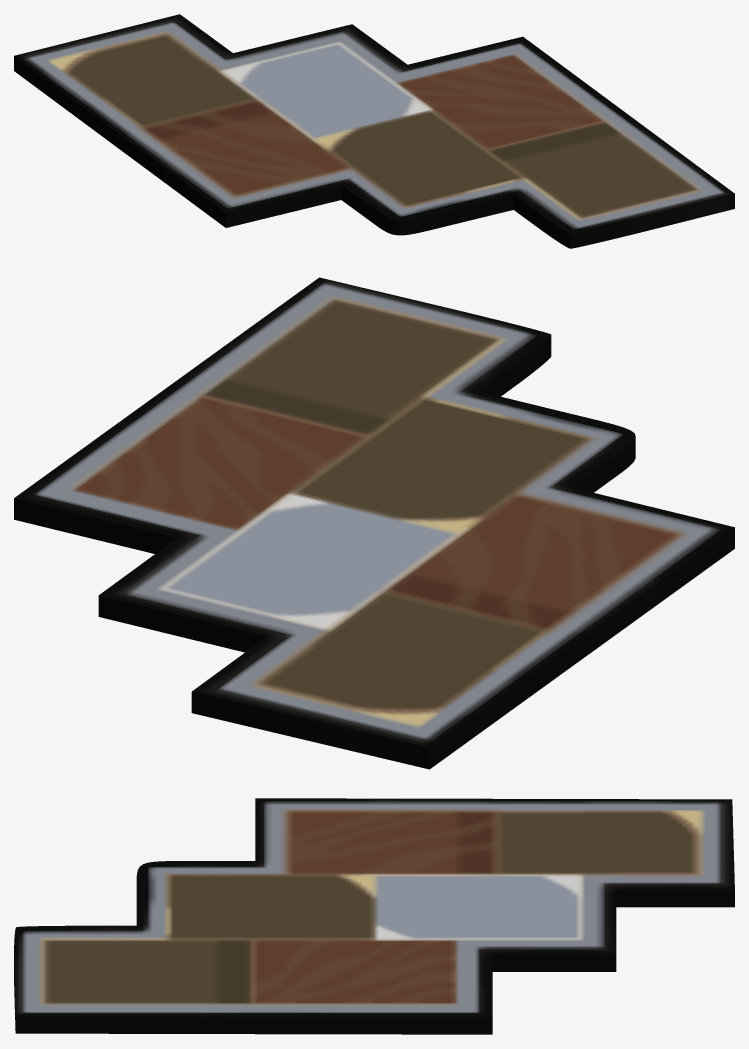
The picture shows the model from 3 angles, top to bottom: view 1: azimuth 30°, elevation 25°; view 2: azimuth 150°, elevation 25°; view 3: azimuth 270°, elevation 25°; orthographic projection. The views are drawn at different scales.
Visible parts, largest first — view 1: path1587; view 2: path1587; view 3: path1587.
Part boxes in pixels (<box>): path1587: <box>14,14,734,248</box>; path1587: <box>14,277,734,769</box>; path1587: <box>14,798,734,1034</box>.
Bounding box in the file's own units: 55.58 × 2 × 77.17.
Materials: 1 (1 with a texture image).
